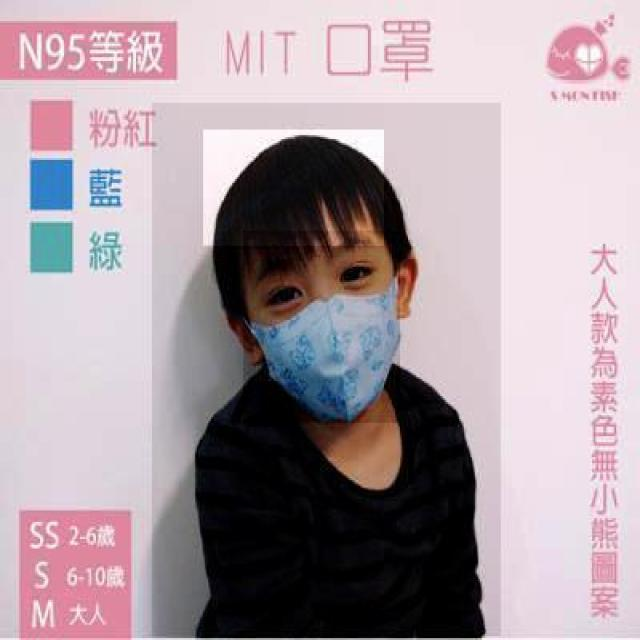face_mask: (243, 230, 400, 423)
head_nohelmet: (203, 130, 386, 248)
person: (152, 103, 502, 638)
